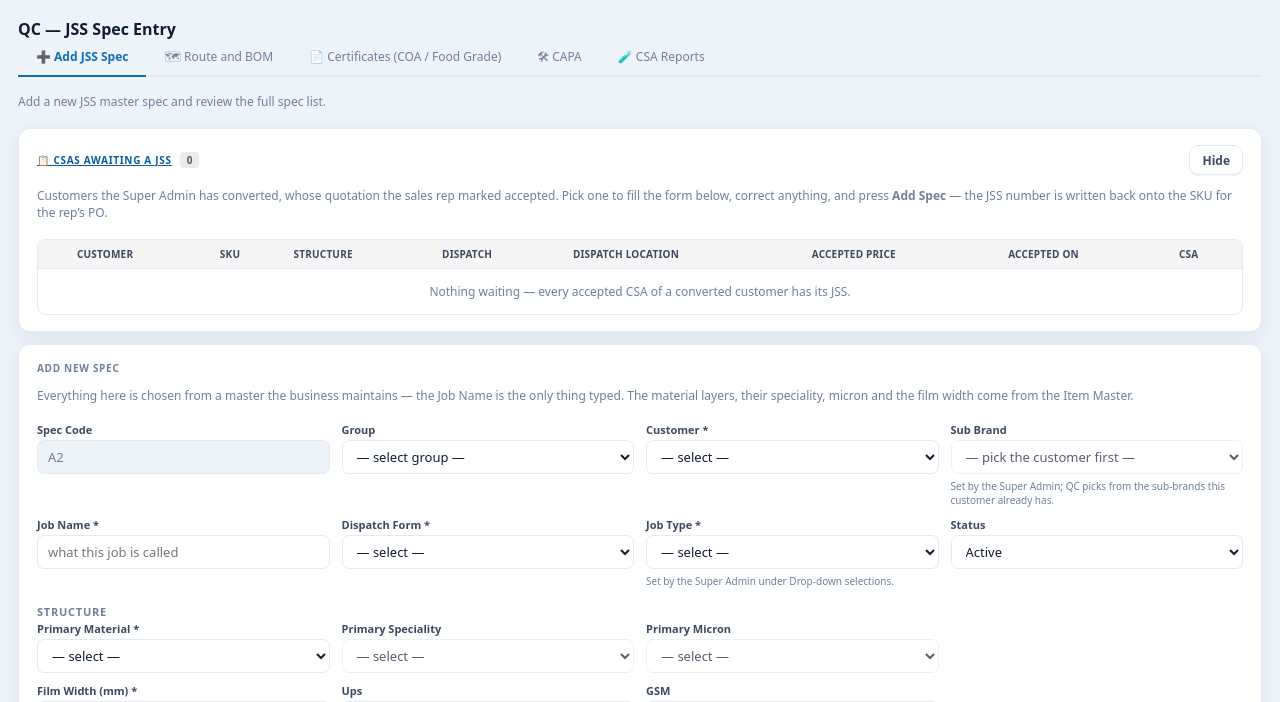
Test: QC — the spec form types nothing but the job name › shows the second and third layer only for a laminate job type
Expected: the text "Add New Spec" is shown, [37,361,120,375]
Select "SF Pouch" in the dropdown named "Job Type" at (792, 552), box [646,535,938,569]
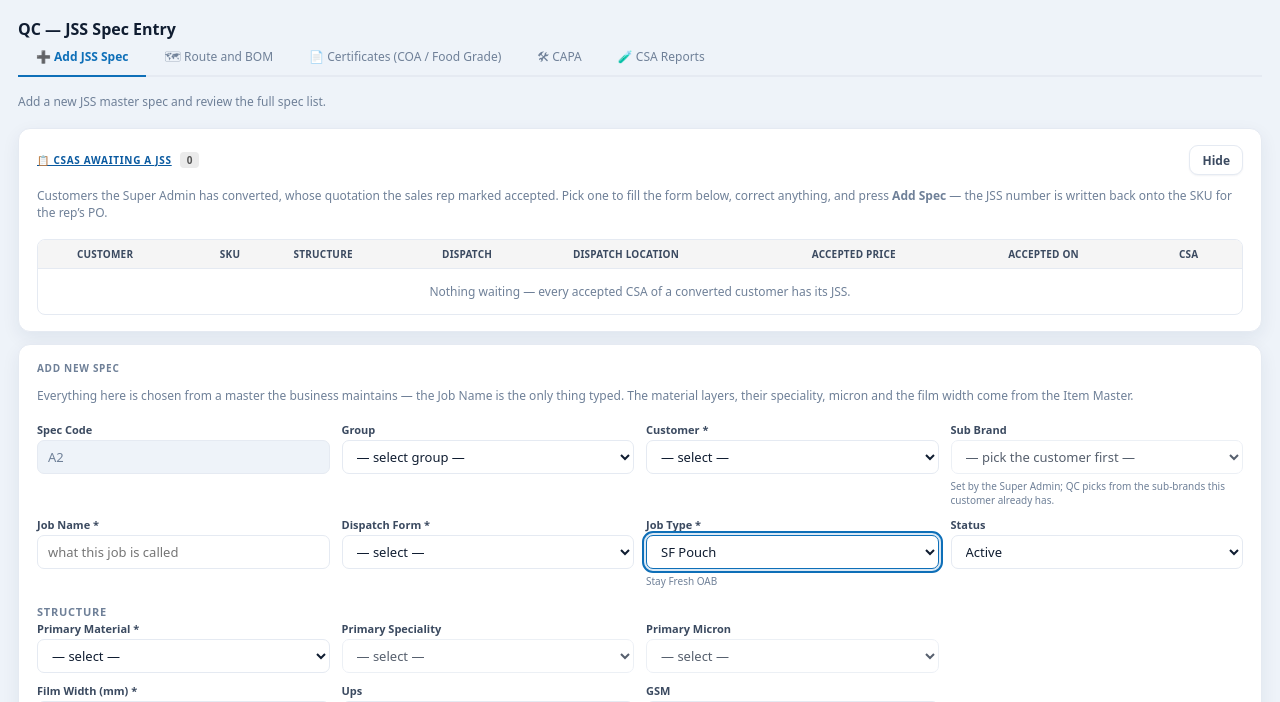
Expected: the field labelled "Secondary Material" is not shown
Result: the text "Stay Fresh OAB" is shown at [646,574,717,588]
Select "Lami Pouch" in the dropdown named "Job Type" at (792, 552), box [646,535,938,569]
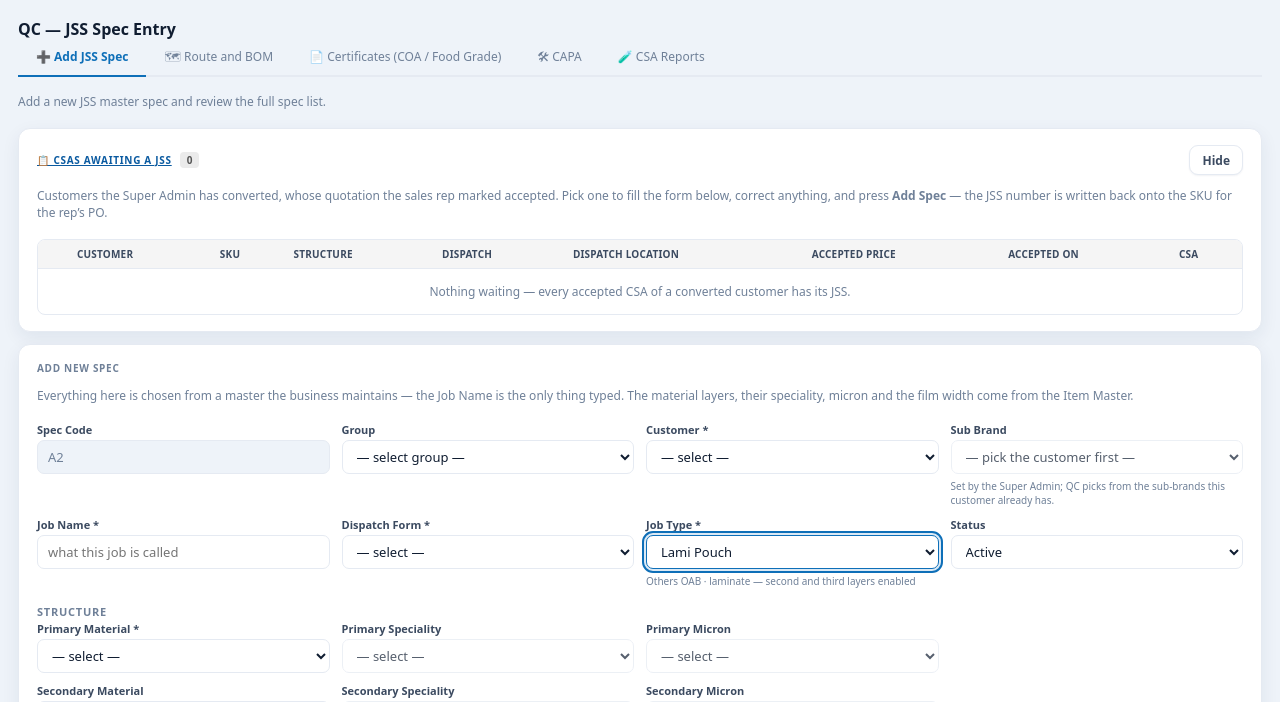
Result: the text "Others OAB · laminate — second and third layers enabled" is shown at [646,574,938,588]
